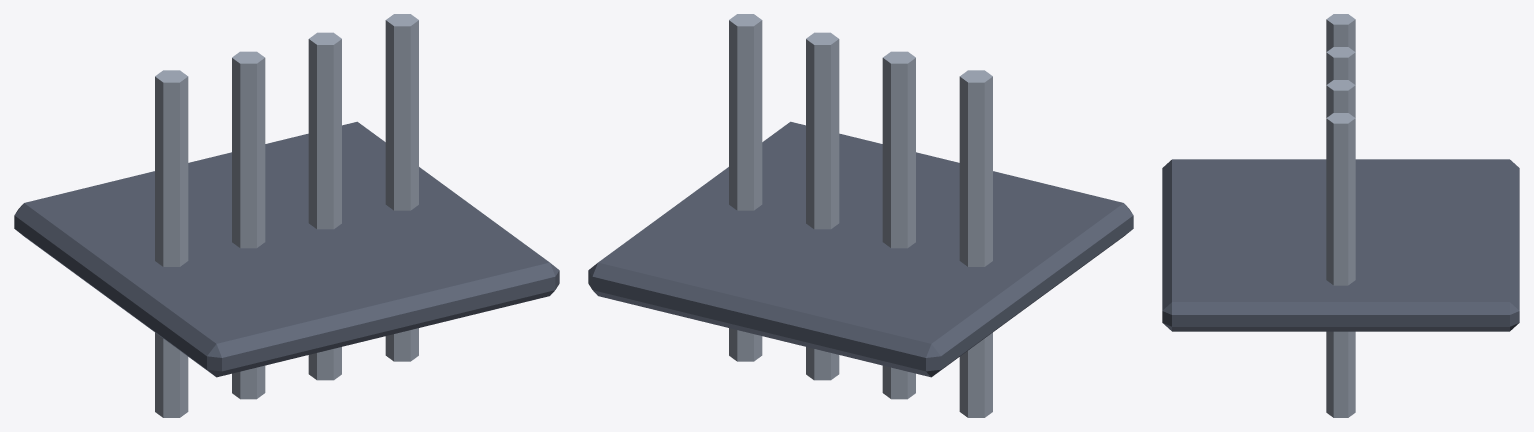
File: metal_gate.glb
3 views of the same model, side by side, from view 1: azimuth 30°, elevation 25°; view 2: azimuth 150°, elevation 25°; view 3: azimuth 270°, elevation 25° (orthographic). The views are drawn at different scales.
Parts seen in each view (by area): view 1: metal_gate; view 2: metal_gate; view 3: metal_gate.
Boxes of the visible parts, left/top/right/bottom form: metal_gate: left=14, top=14, right=559, bottom=417; metal_gate: left=588, top=14, right=1133, bottom=417; metal_gate: left=1162, top=14, right=1519, bottom=417.
Bounding box in the file's own units: 1.1 × 1 × 1.1.
